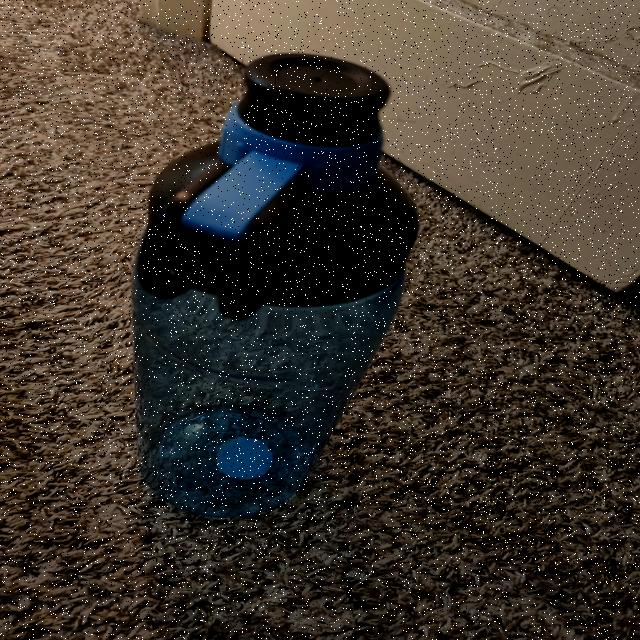bottle: (146, 56, 420, 540)
